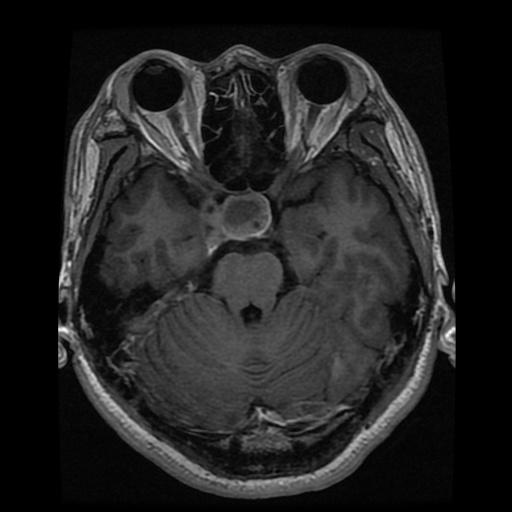pituitary: (214, 189, 270, 240)
